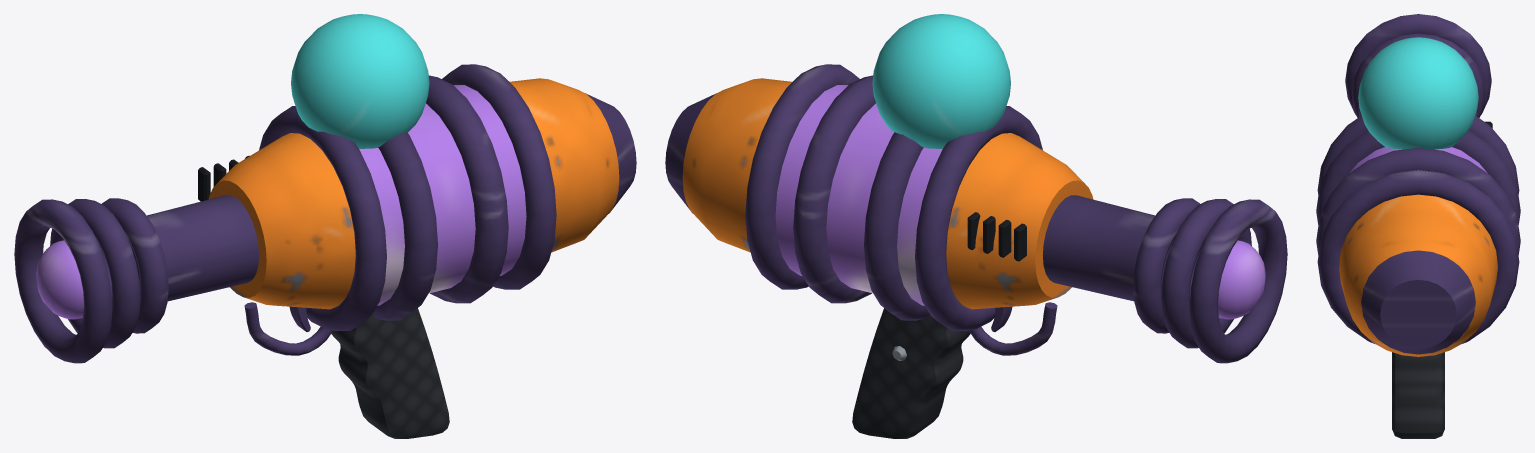
The model's file is PointTeleport.fbx.
3 views of the same model, side by side, from view 1: azimuth 30°, elevation 25°; view 2: azimuth 150°, elevation 25°; view 3: azimuth 270°, elevation 25° (orthographic). The views are drawn at different scales.
Parts seen in each view (by area): view 1: PointTeleport; view 2: PointTeleport; view 3: PointTeleport.
Boxes of the visible parts, bbox=[...] form: PointTeleport: bbox=[14, 14, 636, 438]; PointTeleport: bbox=[665, 14, 1287, 438]; PointTeleport: bbox=[1316, 14, 1520, 438].
Bounding box in the file's own units: 0.81 × 0.5715 × 0.2888.
8 materials, 8 textured.
